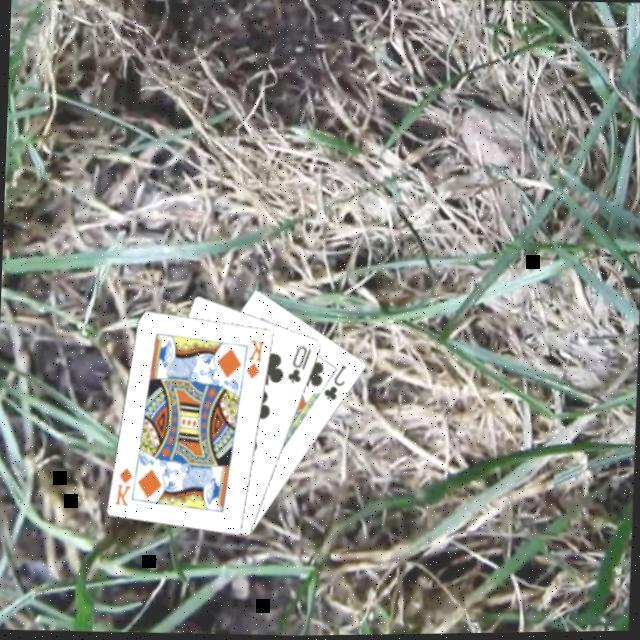10C: (282, 340, 314, 386)
JC: (320, 359, 348, 402)
KD: (242, 334, 266, 380), (110, 462, 134, 506)
